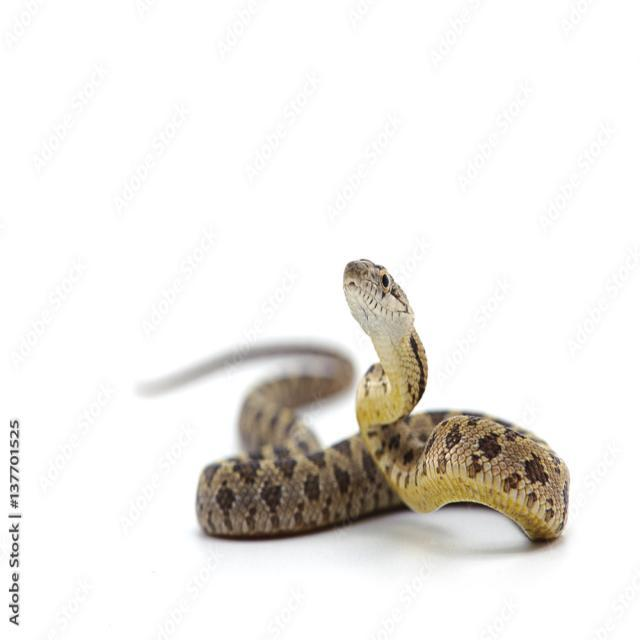Snake: (118, 230, 594, 550)
